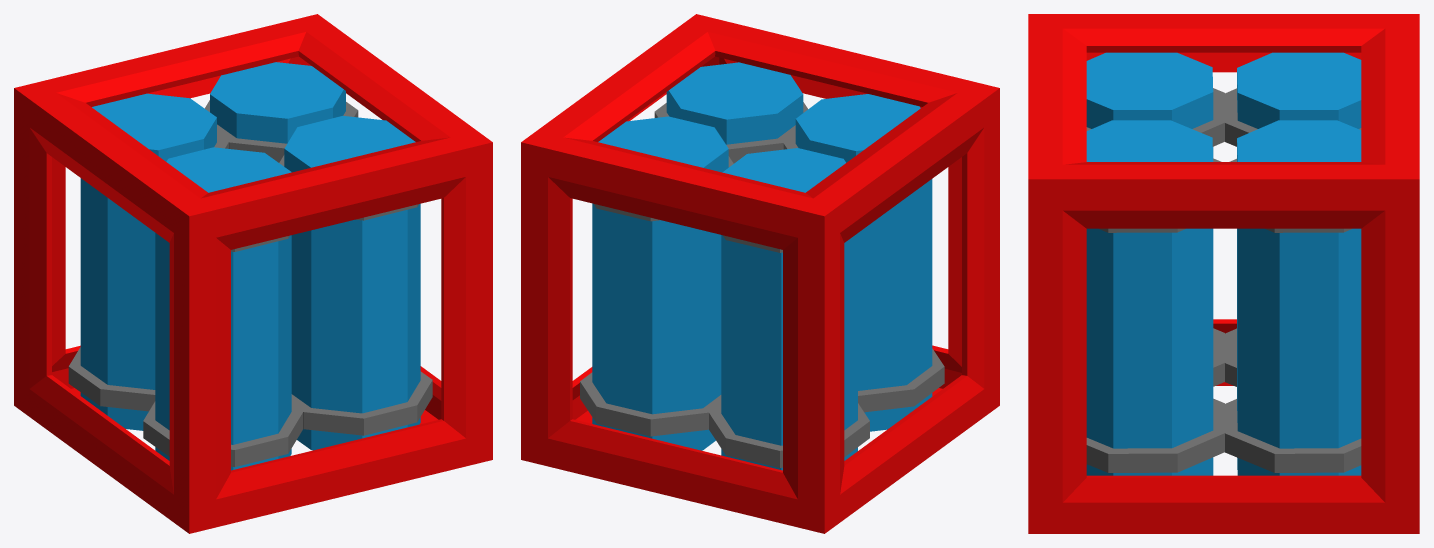
File: ShieldCoil.fbx
3 renders of one model, left to right at view 1: azimuth 30°, elevation 25°; view 2: azimuth 150°, elevation 25°; view 3: azimuth 270°, elevation 25°, orthographic. The views are drawn at different scales.
Parts seen in each view (by area): view 1: ShieldCoil; view 2: ShieldCoil; view 3: ShieldCoil.
Boxes of the visible parts, <box> form: ShieldCoil: <box>14,14,492,533</box>; ShieldCoil: <box>521,14,999,533</box>; ShieldCoil: <box>1028,14,1419,533</box>.
Bounding box in the file's own units: 1 × 1 × 1.
Materials: 1 (1 with a texture image).
